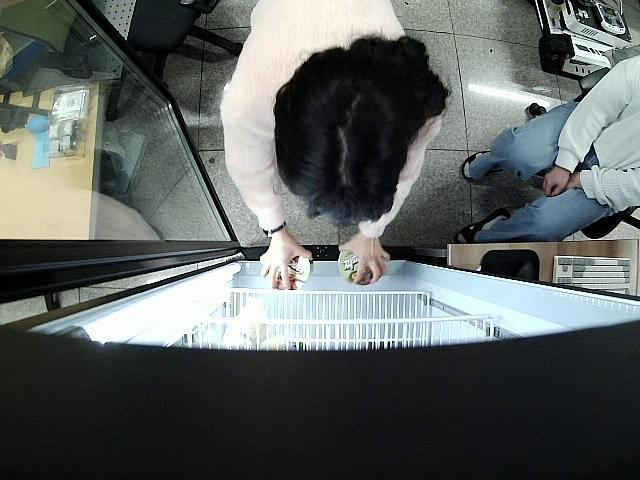03_chapagetti_L: (337, 246, 382, 287), (268, 250, 314, 287)
